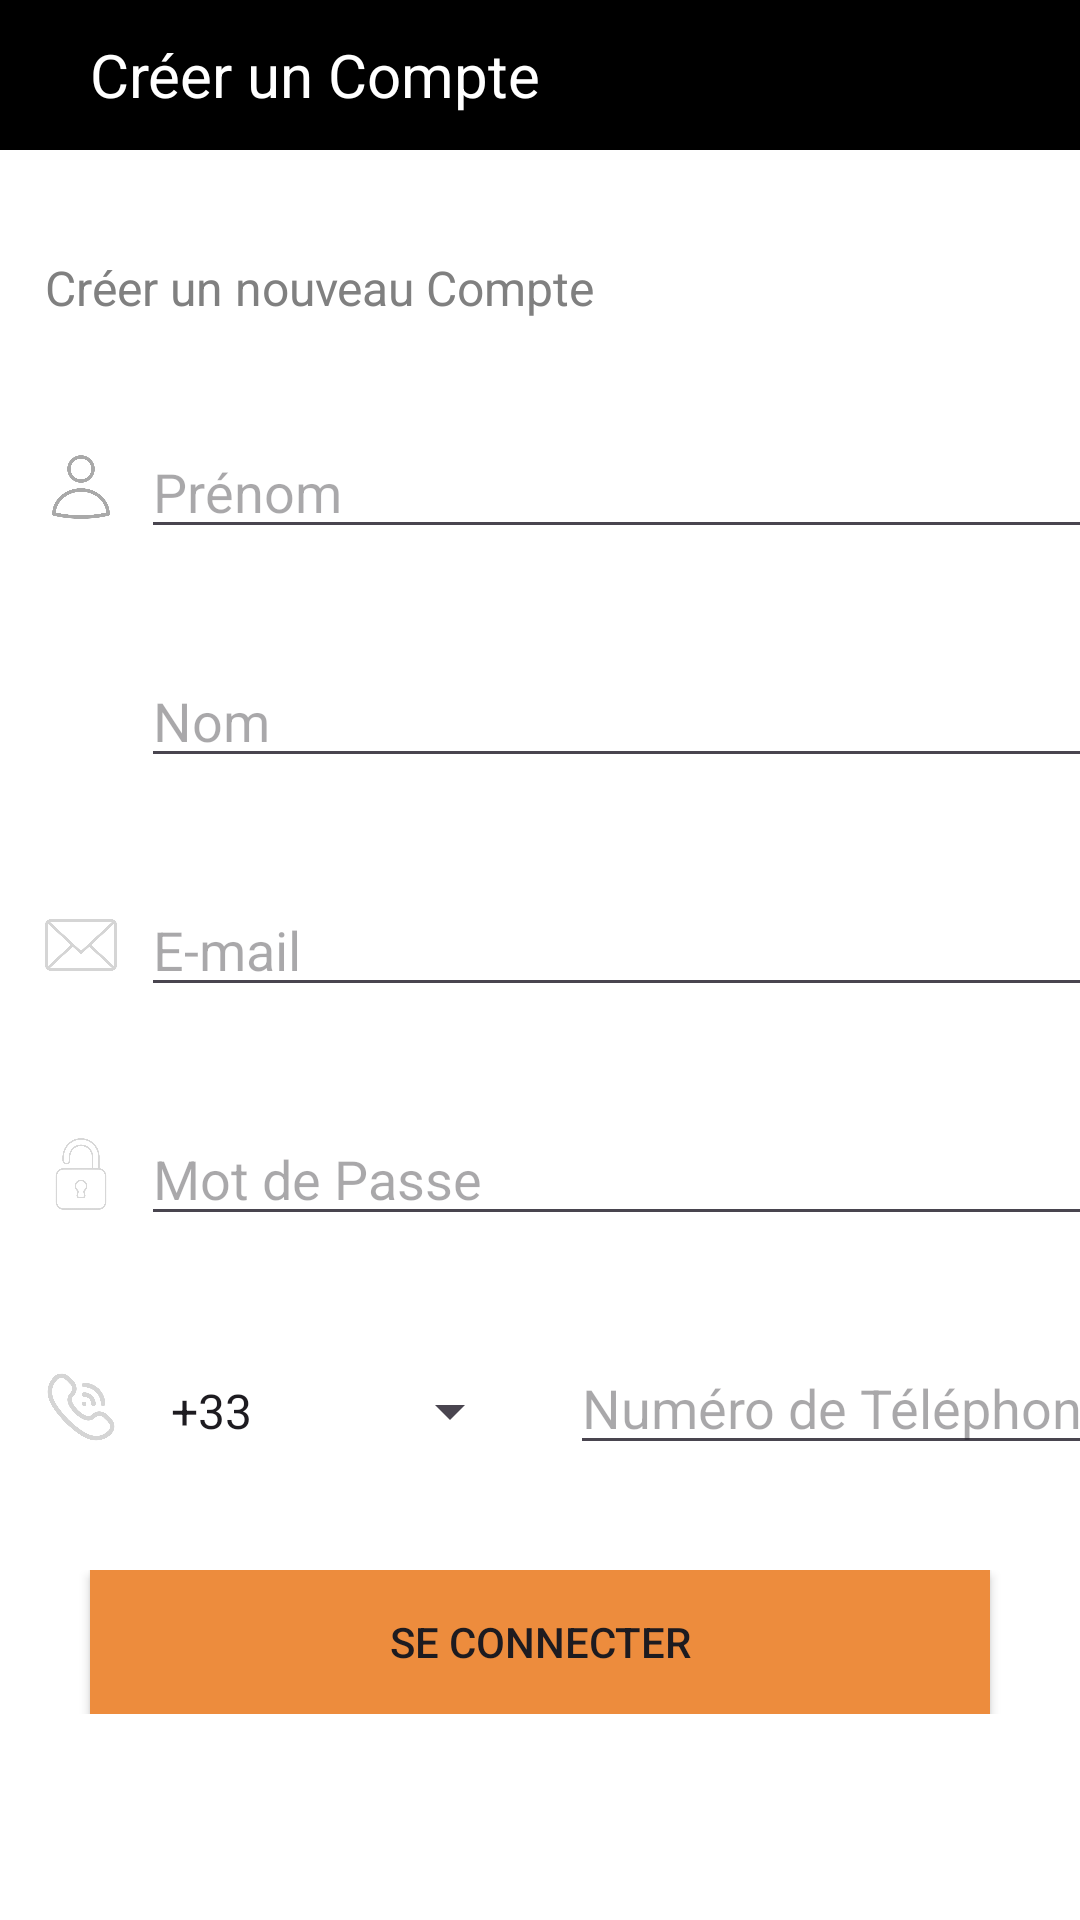

Icon click points for this 1080w x 1920h phone screenshot, format point (x, y):
password: point (81, 1174)
phone: point (81, 1407)
user: point (81, 487)
